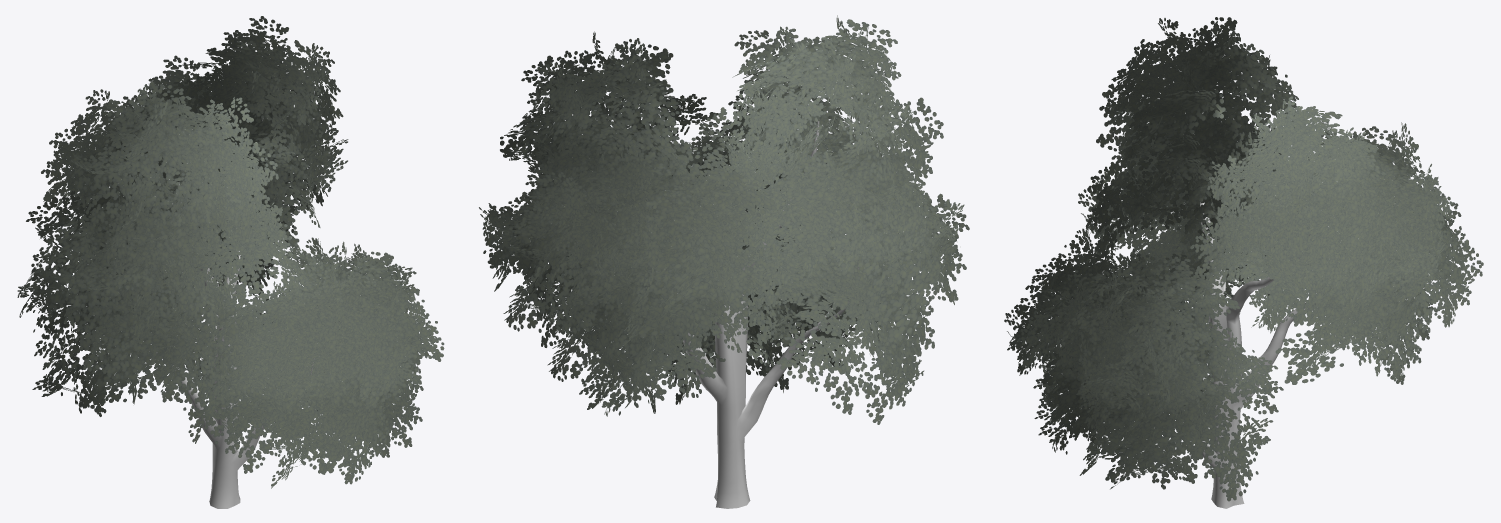
Rendered from SM_Tree_D_01.fbx.
The picture shows the model from 3 angles, left to right: view 1: azimuth 30°, elevation 25°; view 2: azimuth 150°, elevation 25°; view 3: azimuth 270°, elevation 25°; orthographic projection. The views are drawn at different scales.
Parts seen in each view (by area): view 1: SM_Tree_D_01_LOD0; view 2: SM_Tree_D_01_LOD0; view 3: SM_Tree_D_01_LOD0.
Boxes of the visible parts, x1,y1,x2,y2 form: SM_Tree_D_01_LOD0: (17, 16, 444, 508); SM_Tree_D_01_LOD0: (479, 15, 969, 508); SM_Tree_D_01_LOD0: (1004, 17, 1483, 508).
Size of what is drawn, in the model's own units: 14.74 by 17.08 by 17.04.
